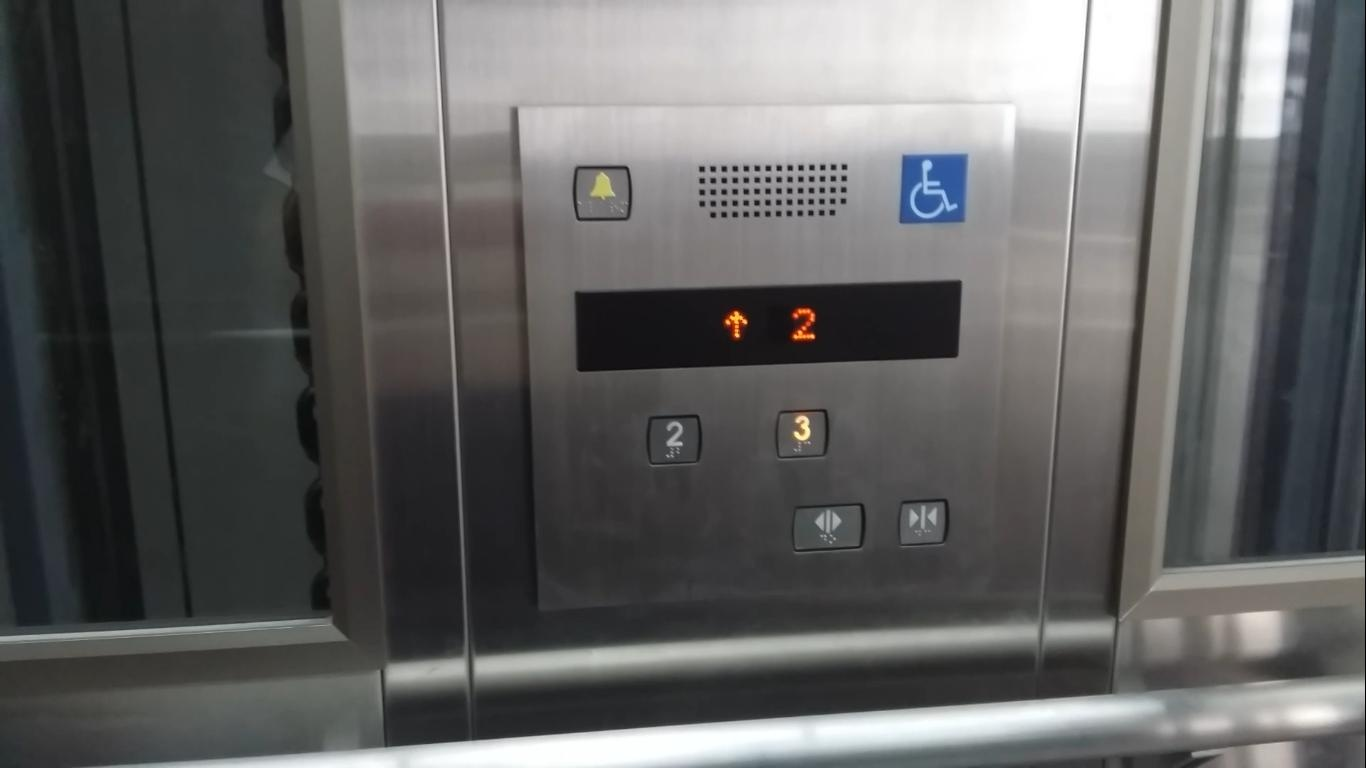2: (646, 412, 702, 467)
3: (774, 405, 830, 459)
CH: (899, 153, 968, 224)
alarm: (571, 164, 637, 221)
close: (896, 497, 949, 547)
led: (574, 279, 963, 373)
open: (791, 501, 867, 553)
